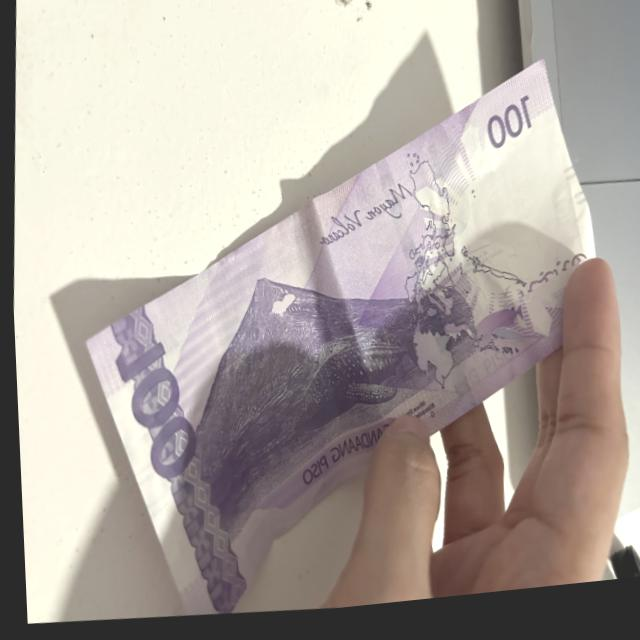100_whale: (287, 335, 421, 442)
100_whale_watermark: (467, 315, 521, 368)
